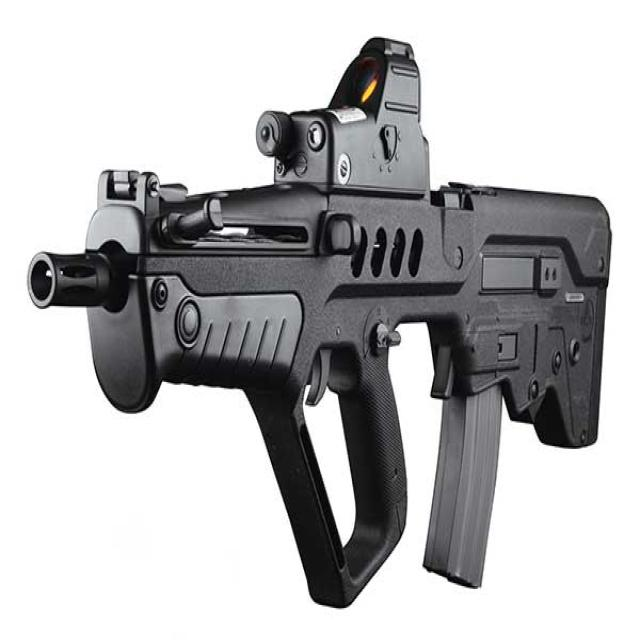Rifle: (26, 36, 614, 611)
